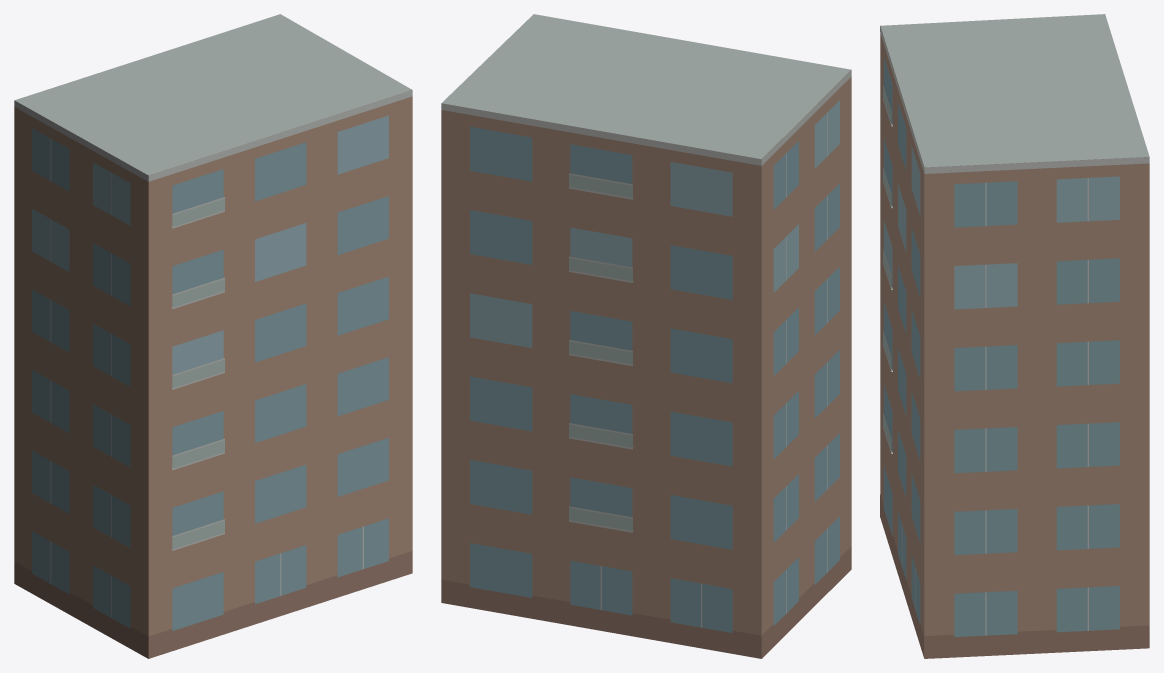
Rendered from survey-upis-32742117.glb.
The picture shows the model from 3 angles, left to right: view 1: azimuth 30°, elevation 25°; view 2: azimuth 150°, elevation 25°; view 3: azimuth 270°, elevation 25°; orthographic projection. The views are drawn at different scales.
Visible parts, largest first — view 1: survey-upis-32742117.tmp; view 2: survey-upis-32742117.tmp; view 3: survey-upis-32742117.tmp.
Boxes of the visible parts, bbox=[...] form: survey-upis-32742117.tmp: bbox=[14, 14, 412, 658]; survey-upis-32742117.tmp: bbox=[441, 14, 851, 658]; survey-upis-32742117.tmp: bbox=[880, 14, 1149, 658].
Bounding box in the file's own units: 12.27 × 18.3 × 9.1.
